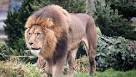lion: (25, 4, 99, 77)
